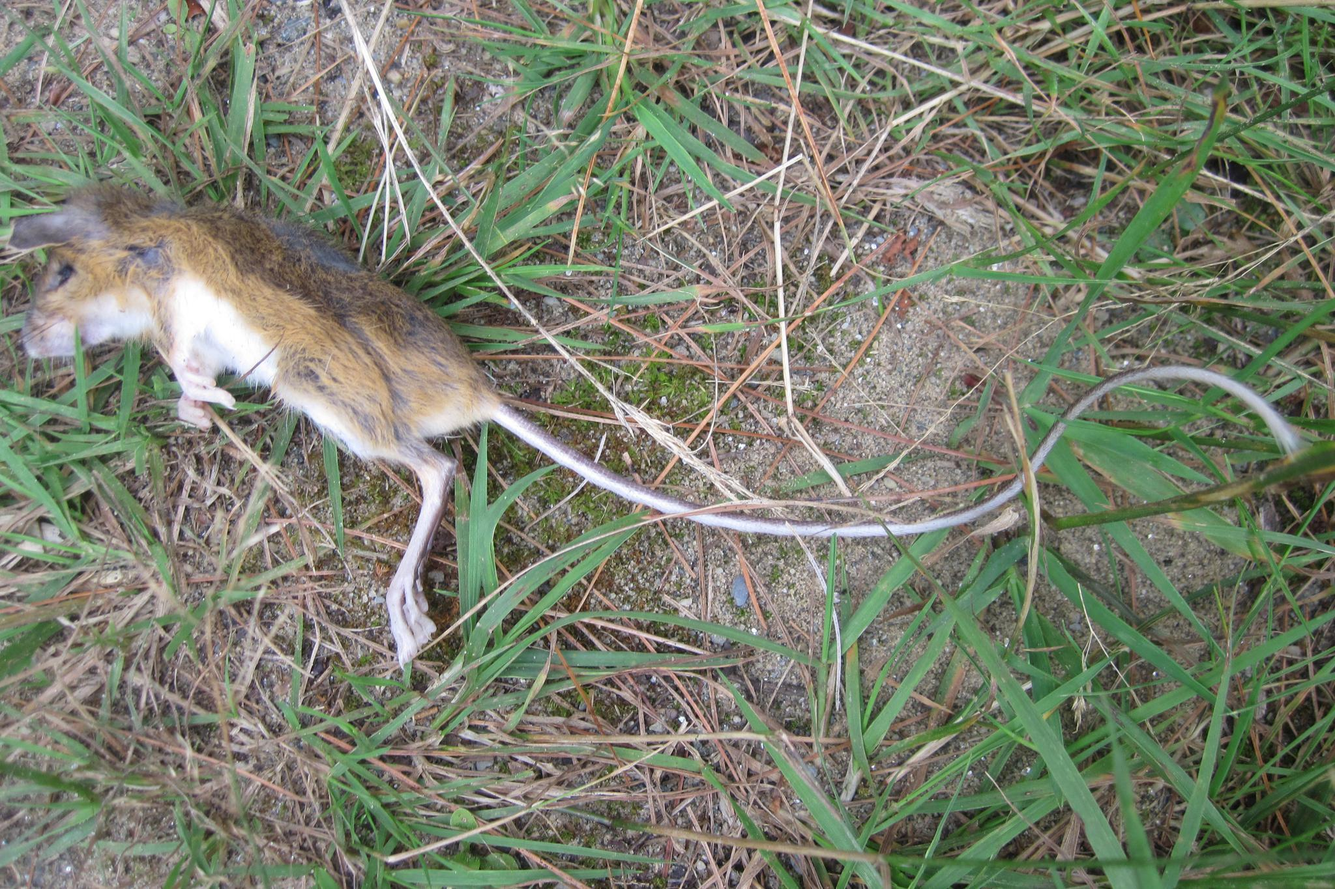rat: (9, 185, 1292, 660)
